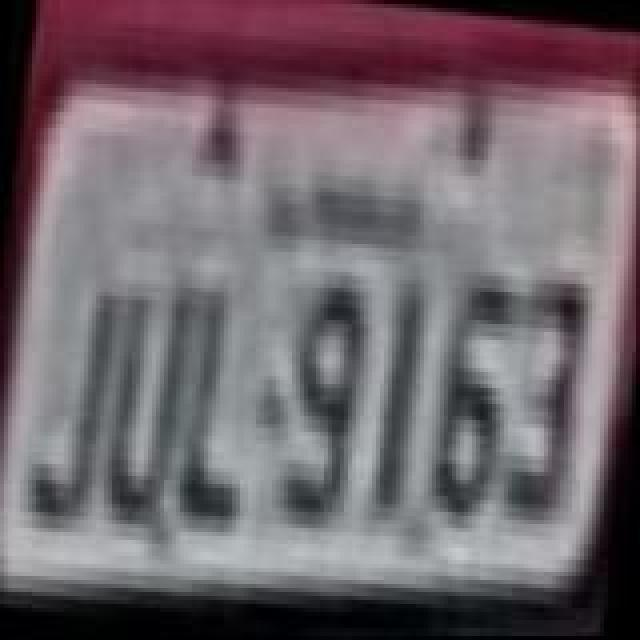1: (362, 280, 430, 520)
3: (500, 268, 596, 524)
6: (420, 274, 524, 534)
9: (272, 272, 372, 540)
J: (26, 280, 122, 536)
L: (166, 282, 270, 538)
U: (94, 282, 198, 538)
